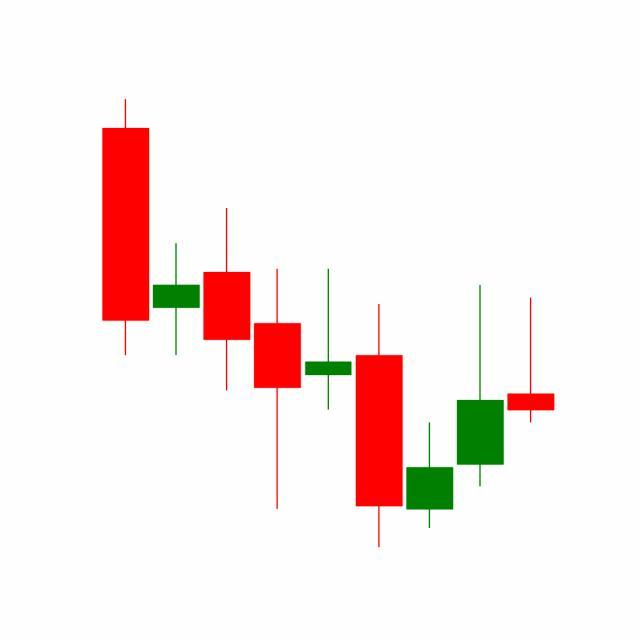Hikkake Pattern: (252, 265, 506, 548)
